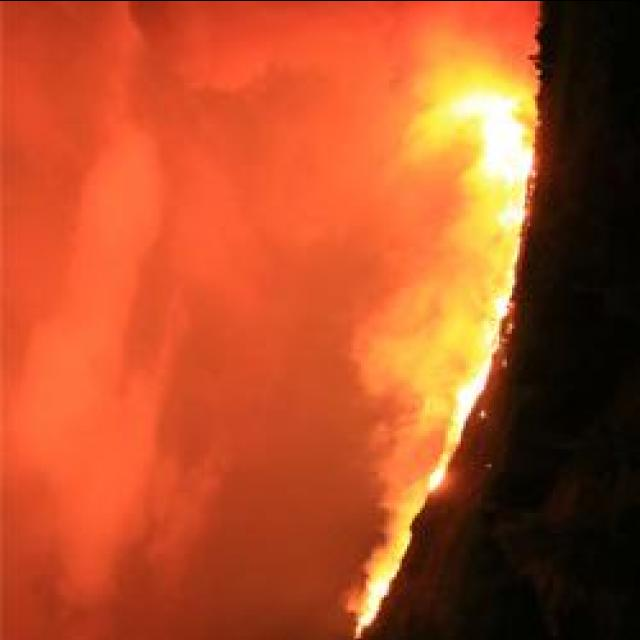fire: (467, 87, 532, 194), (457, 352, 488, 424), (366, 566, 396, 614)
smoke: (9, 500, 333, 640), (123, 0, 384, 156), (376, 9, 462, 188), (354, 274, 444, 430), (444, 217, 518, 294)
